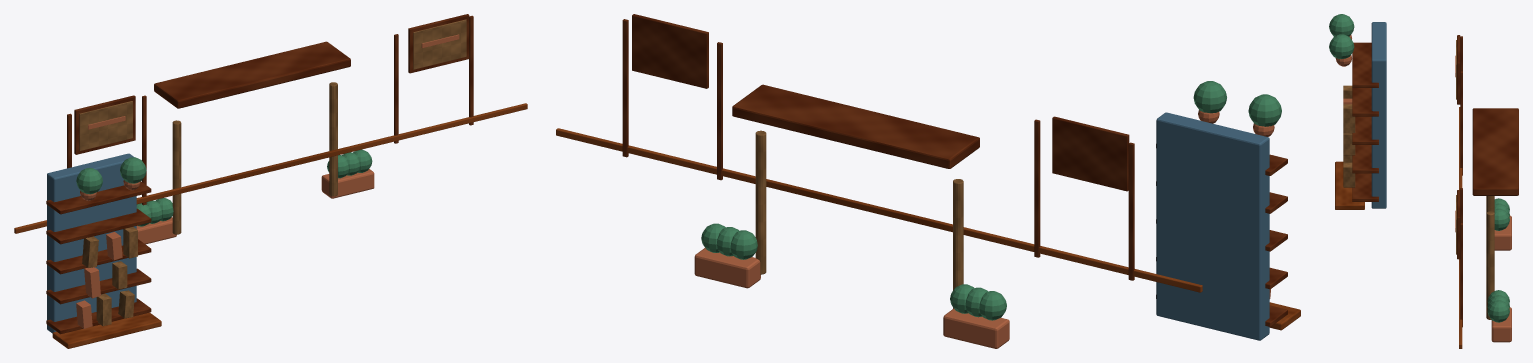
Rendered from warm-living-composition-pbr-v1.glb.
3 renders of one model, left to right at view 1: azimuth 30°, elevation 25°; view 2: azimuth 150°, elevation 25°; view 3: azimuth 270°, elevation 25°, orthographic. The views are drawn at different scales.
Visible parts, largest first — view 1: warm-library-back, warm-porch-canopy, warm-linen-rail, warm-framed-print-canvas.001, warm-framed-print-canvas, warm-library-ledge, warm-library-shelf.003, warm-library-shelf.004, warm-porch-post, warm-library-shelf.001, warm-porch-post.001, warm-framed-print-frame.001 (+18 smaller); view 2: warm-library-back, warm-porch-canopy, warm-linen-rail, warm-framed-print-frame, warm-framed-print-frame.001, warm-porch-planter, warm-porch-planter.001, warm-porch-post.001, warm-porch-post, warm-linen-wall-pilaster, warm-linen-wall-pilaster.003, warm-linen-wall-pilaster.001 (+5 smaller); view 3: warm-porch-canopy, warm-library-back, warm-library-shelf.004, warm-porch-post.001, warm-library-ledge, warm-library-shelf.003, warm-library-shelf.001, warm-library-shelf, warm-library-shelf.002, warm-library-plant.001, warm-porch-planter.001, warm-library-plant (+11 smaller).
Boxes of the visible parts, left/top/right/bottom form: warm-library-back: left=47, top=153, right=136, bottom=333; warm-porch-canopy: left=154, top=41, right=350, bottom=108; warm-linen-rail: left=14, top=103, right=527, bottom=233; warm-framed-print-canvas.001: left=413, top=19, right=466, bottom=69; warm-framed-print-canvas: left=79, top=101, right=132, bottom=150; warm-library-ledge: left=52, top=312, right=161, bottom=348; warm-library-shelf.003: left=46, top=208, right=151, bottom=244; warm-library-shelf.004: left=46, top=181, right=151, bottom=214; warm-porch-post: left=172, top=120, right=181, bottom=234; warm-library-shelf.001: left=46, top=268, right=151, bottom=304; warm-porch-post.001: left=329, top=82, right=337, bottom=196; warm-framed-print-frame.001: left=408, top=14, right=469, bottom=73; warm-library-back: left=1156, top=112, right=1269, bottom=340; warm-porch-canopy: left=732, top=84, right=979, bottom=168; warm-linen-rail: left=556, top=128, right=1202, bottom=292; warm-framed-print-frame: left=1052, top=116, right=1129, bottom=191; warm-framed-print-frame.001: left=632, top=14, right=708, bottom=88; warm-porch-planter: left=943, top=308, right=1009, bottom=348; warm-porch-planter.001: left=694, top=248, right=760, bottom=288; warm-porch-post.001: left=755, top=130, right=766, bottom=274; warm-porch-post: left=953, top=179, right=963, bottom=308; warm-linen-wall-pilaster: left=1128, top=142, right=1134, bottom=280; warm-linen-wall-pilaster.003: left=622, top=19, right=628, bottom=157; warm-linen-wall-pilaster.001: left=1034, top=119, right=1040, bottom=257; warm-porch-canopy: left=1472, top=108, right=1518, bottom=195; warm-library-back: left=1371, top=22, right=1386, bottom=208; warm-library-shelf.004: left=1352, top=42, right=1378, bottom=87; warm-porch-post.001: left=1486, top=211, right=1494, bottom=319; warm-library-ledge: left=1335, top=161, right=1364, bottom=209; warm-library-shelf.003: left=1352, top=88, right=1378, bottom=116; warm-library-shelf.001: left=1352, top=145, right=1378, bottom=173; warm-library-shelf: left=1352, top=173, right=1378, bottom=201; warm-library-shelf.002: left=1352, top=116, right=1378, bottom=144; warm-library-plant.001: left=1329, top=34, right=1354, bottom=59; warm-porch-planter.001: left=1491, top=307, right=1511, bottom=342; warm-library-plant: left=1329, top=14, right=1354, bottom=36.
Size of the model in its own units: 7.71 by 2.46 by 2.54.
6 materials, 3 textured.
